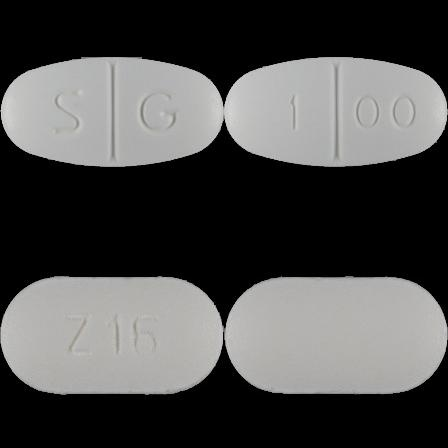53808-1069: (0, 0, 224, 224)
